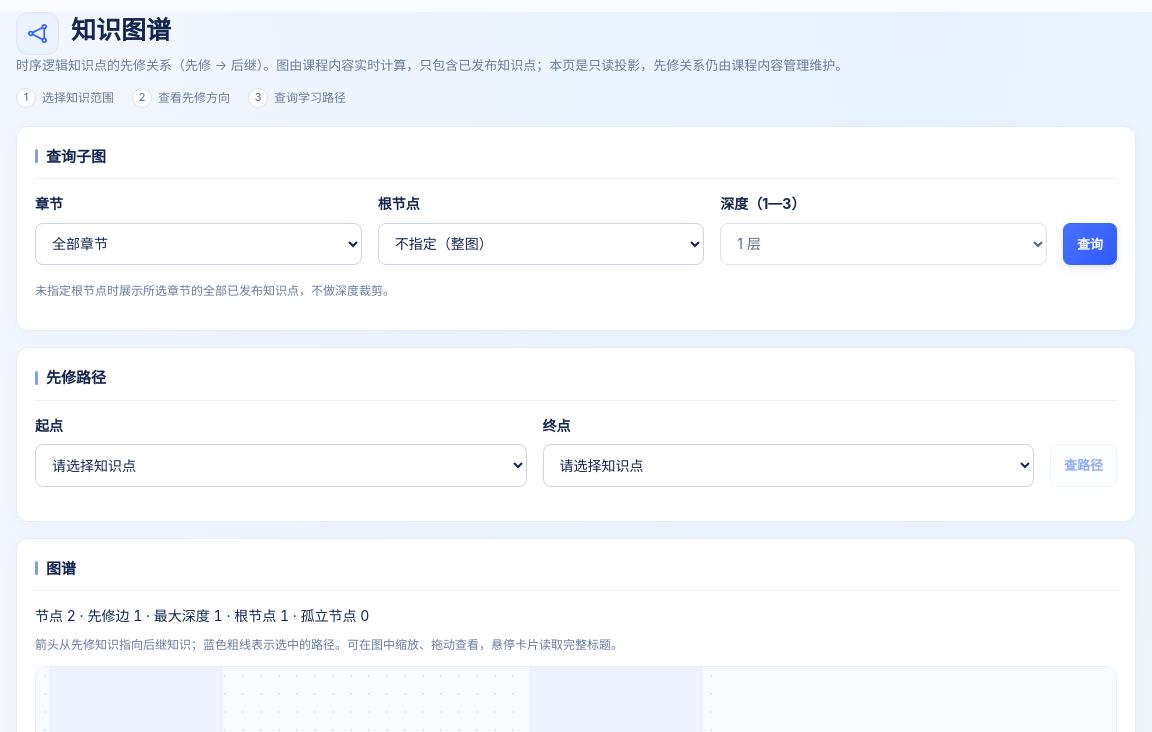
Test: 知识图谱页面 › 没有先修链时给提示，不编造中间节点
This screenshot has width=1152, height=732.
Select "模 6 计数器与 5→0 回卷" in the dropdown with id "g_from" at coordinates (281, 466), box [35, 444, 526, 487]
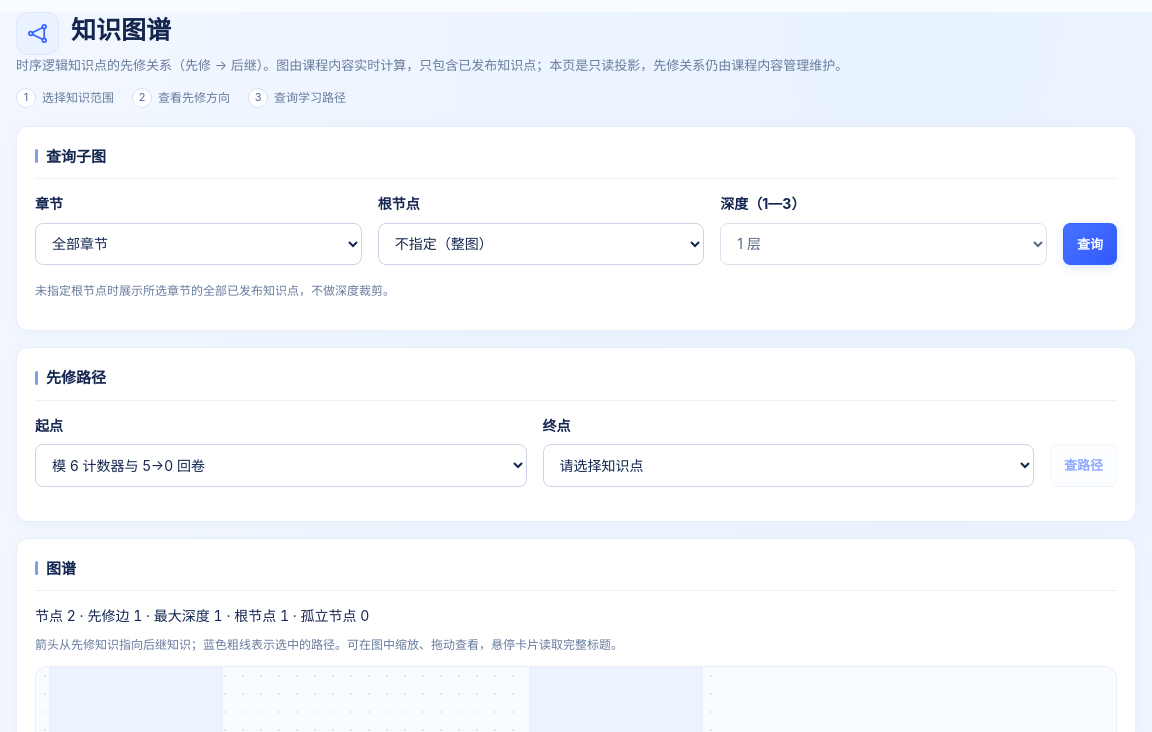
Select "二进制计数器与模值" in the dropdown with id "g_to" at coordinates (788, 466), box [542, 444, 1034, 487]
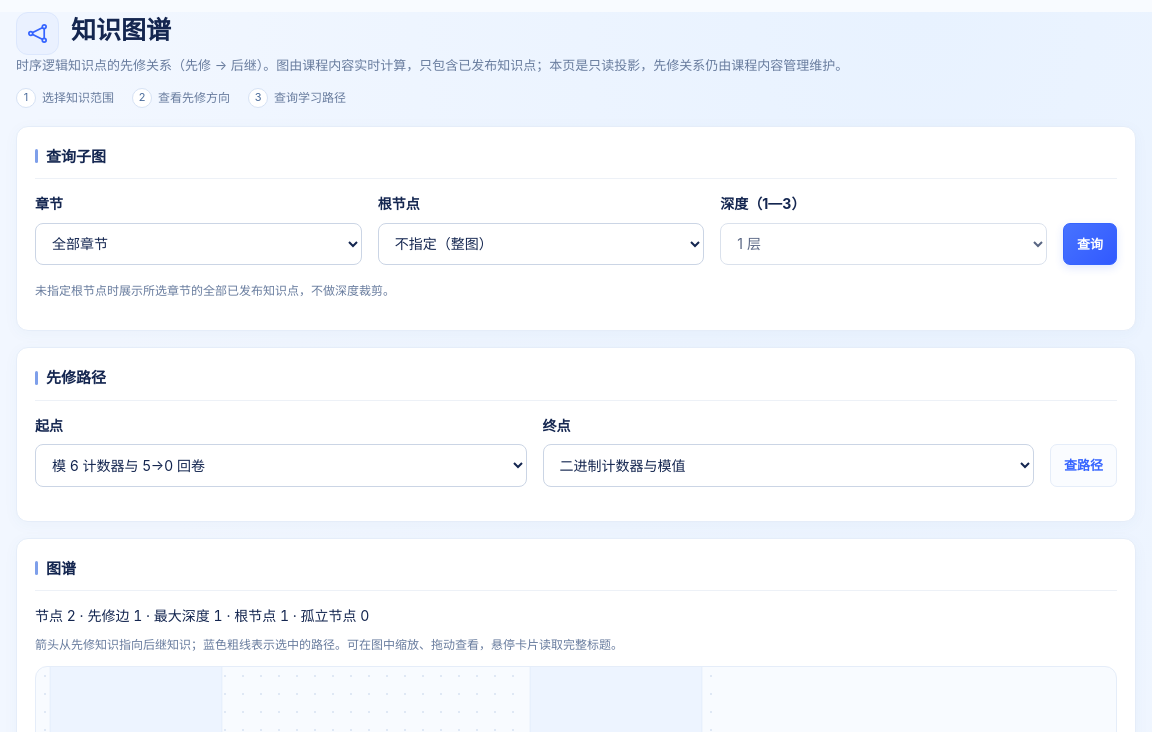
Submit the form "起点 终点 查路径", box [35, 415, 1117, 487]
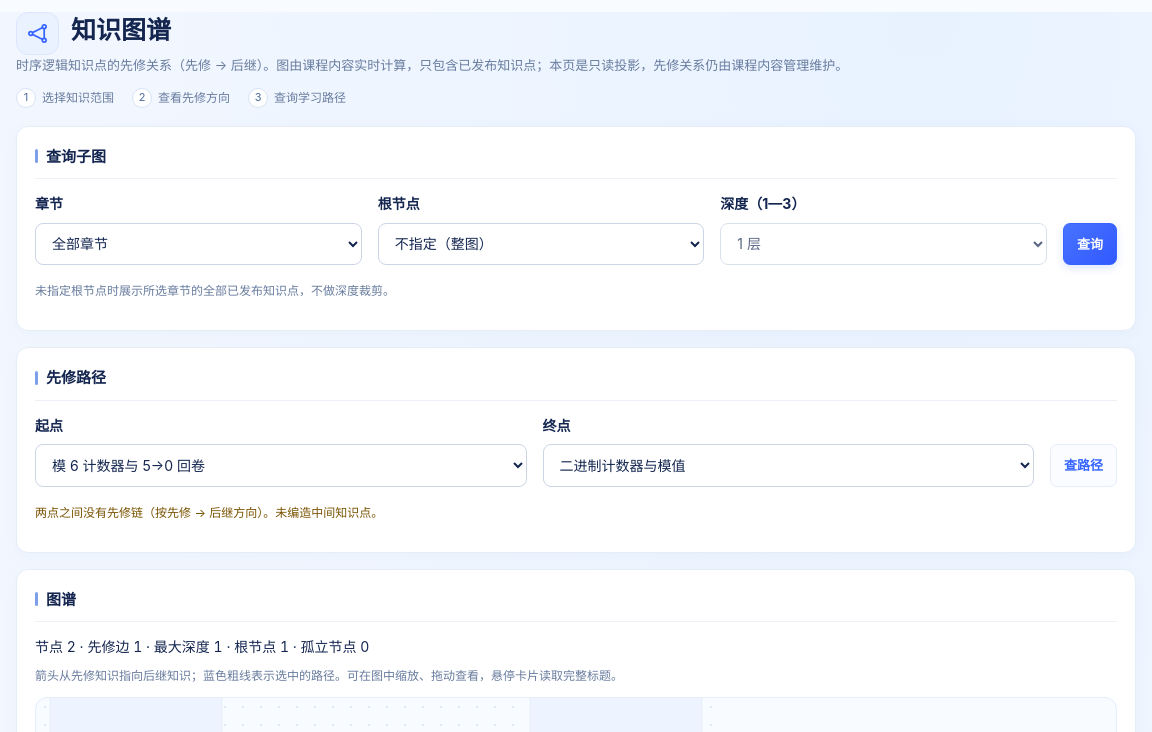
expect the text "没有先修链" is shown: met, box [35, 505, 383, 520]
